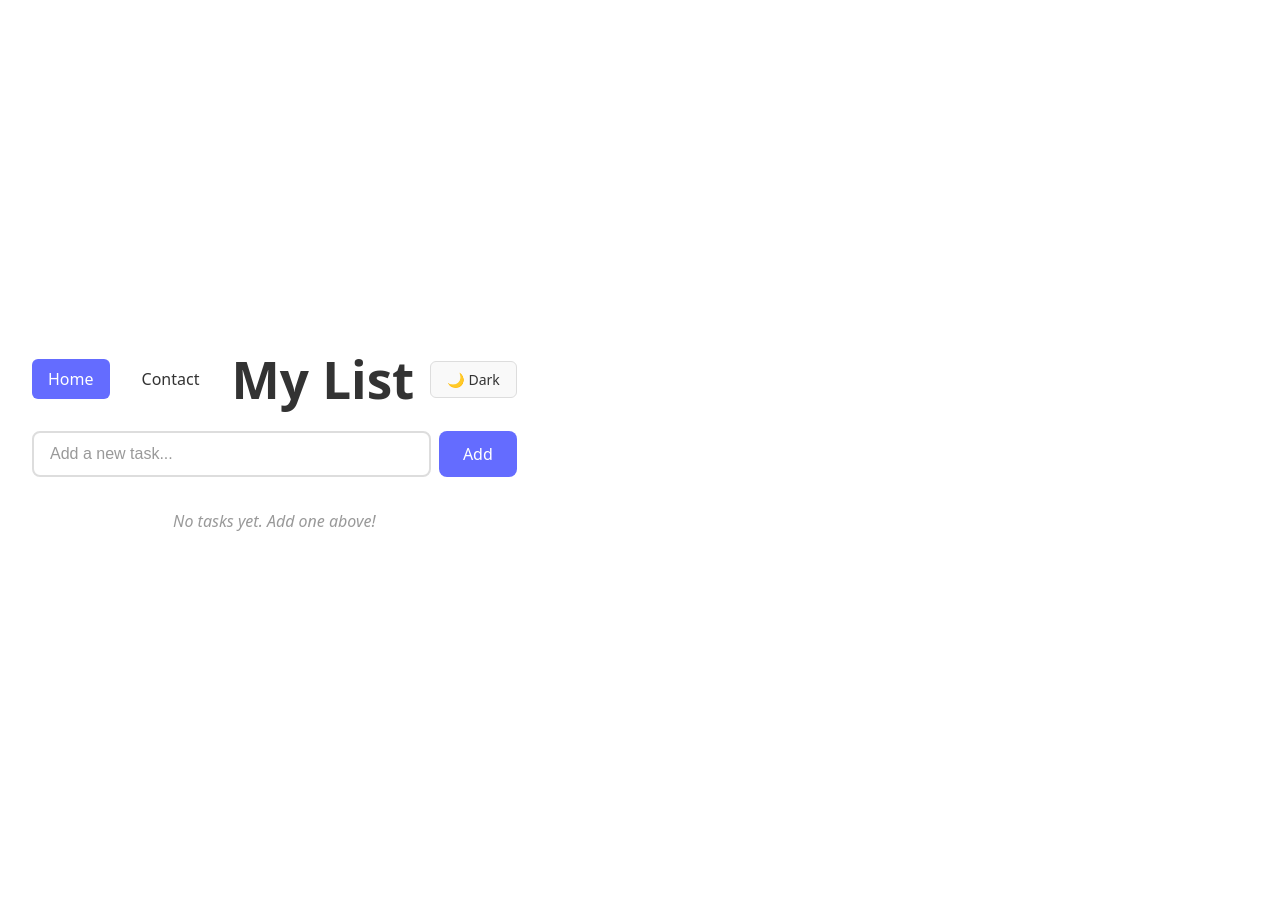
Test: App › toggles theme
The width and height of the screenshot is (1280, 900).
// Click to switch to dark theme
Click the button "🌙 Dark": (474, 379) [430,360,517,398]
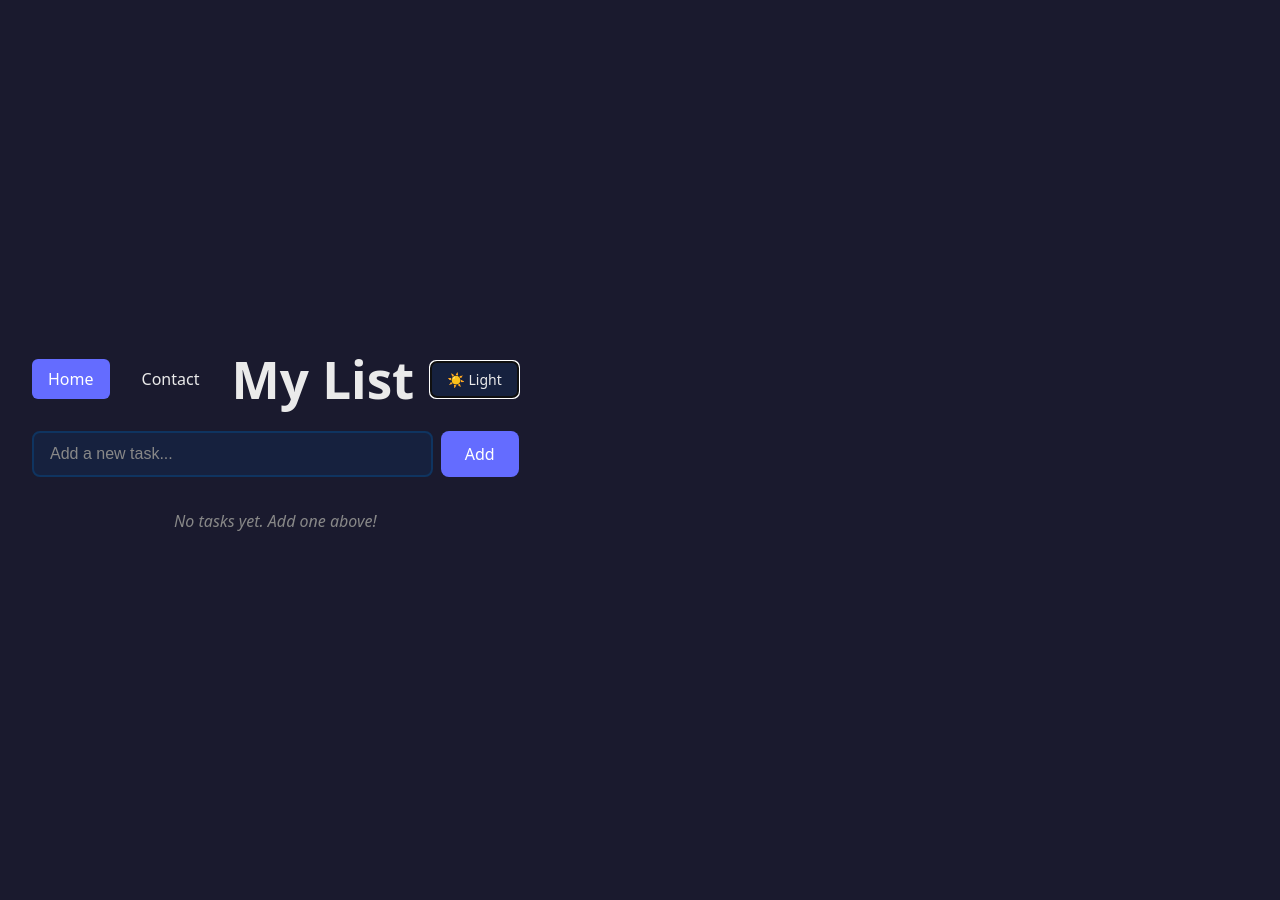
Result: the button "☀️ Light" is shown at [430,360,519,398]
